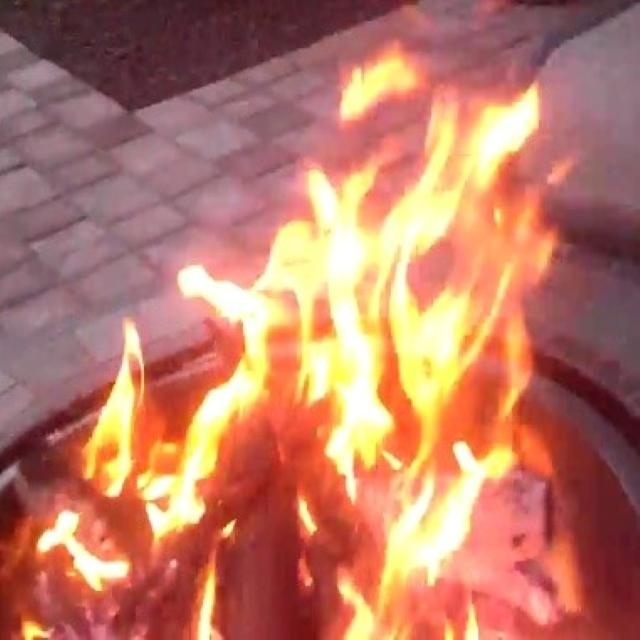Fire: (10, 7, 594, 640)
